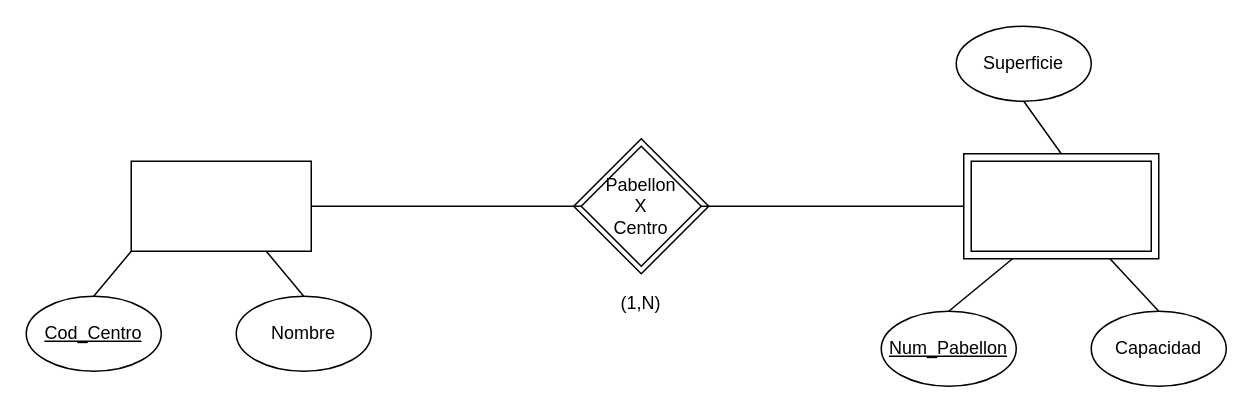
This 1253x413 diagram has some shape labels left out. Here are the shapes that lost their labels. From the top down, the centre of each, then its label:
At point 220,205: "Centro de Exposicion".
At point 1060,205: "Pabellon".
